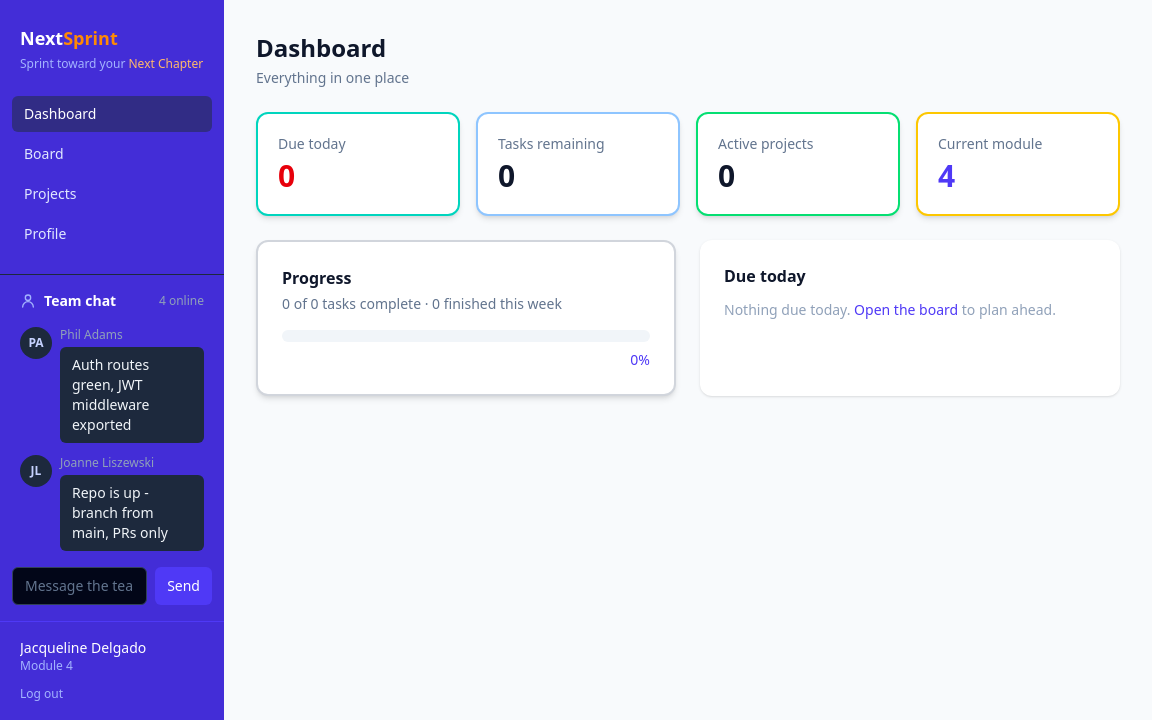
it: Chat sidebar integration › posts a chat message with parsed @mentions and renders the sent message
This screenshot has width=1152, height=720.
In the field with placeholder "Message the team...": (80, 586) [12,567,147,605], type "@Phil I can review the task API next"
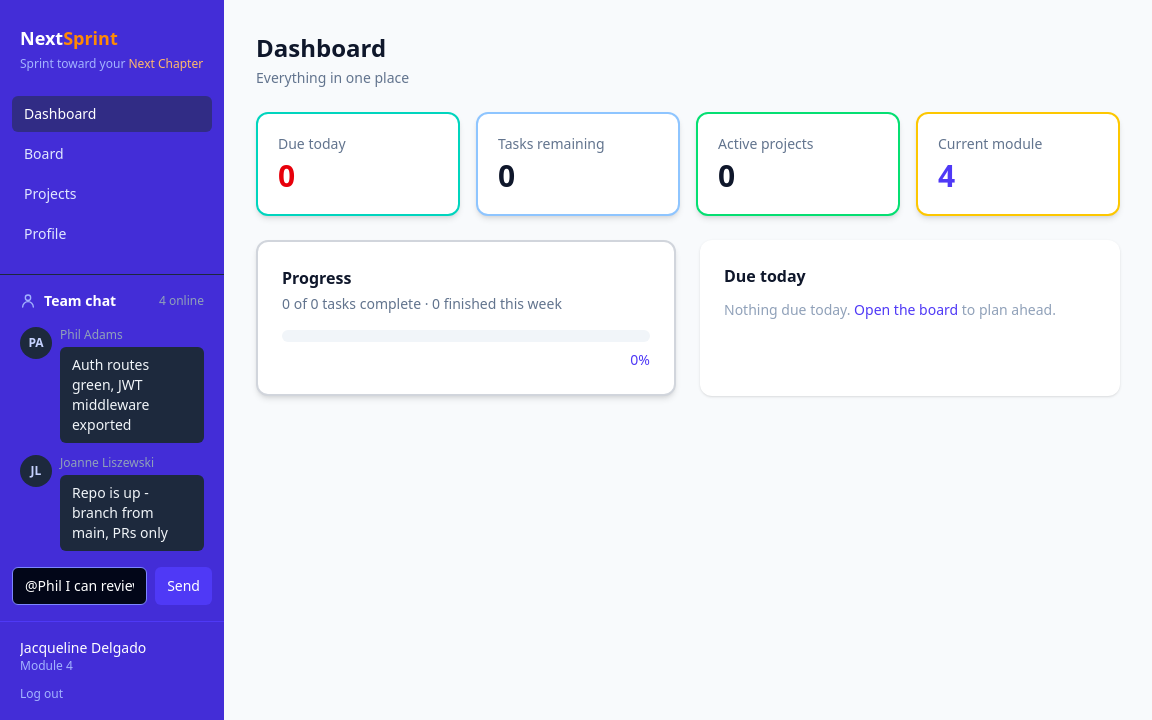
Click the button with aria-label "send message": (184, 586) [155,567,212,605]
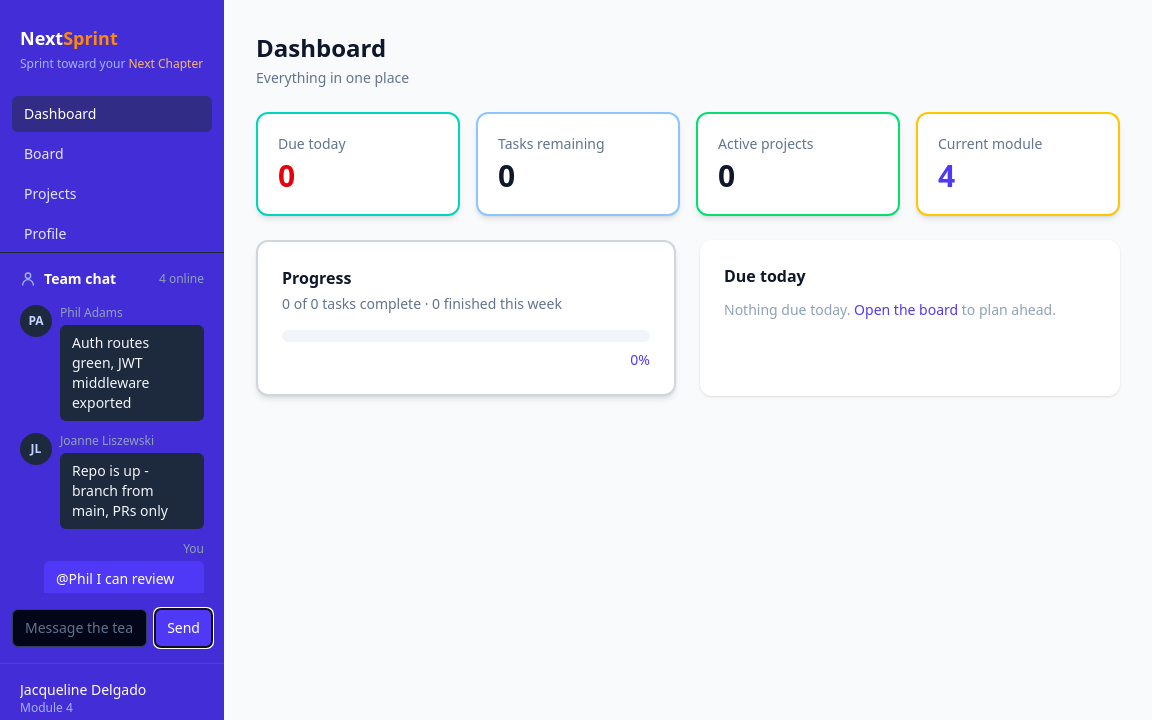
Expected: the text "@Phil I can review the task API next" is shown, [56,569,174,593]
